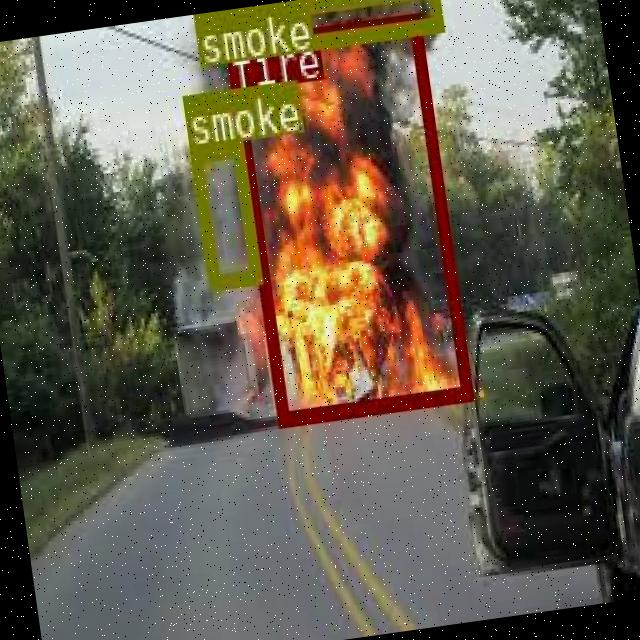fire: (224, 11, 471, 424)
smoke: (191, 0, 442, 63), (188, 138, 260, 288)
